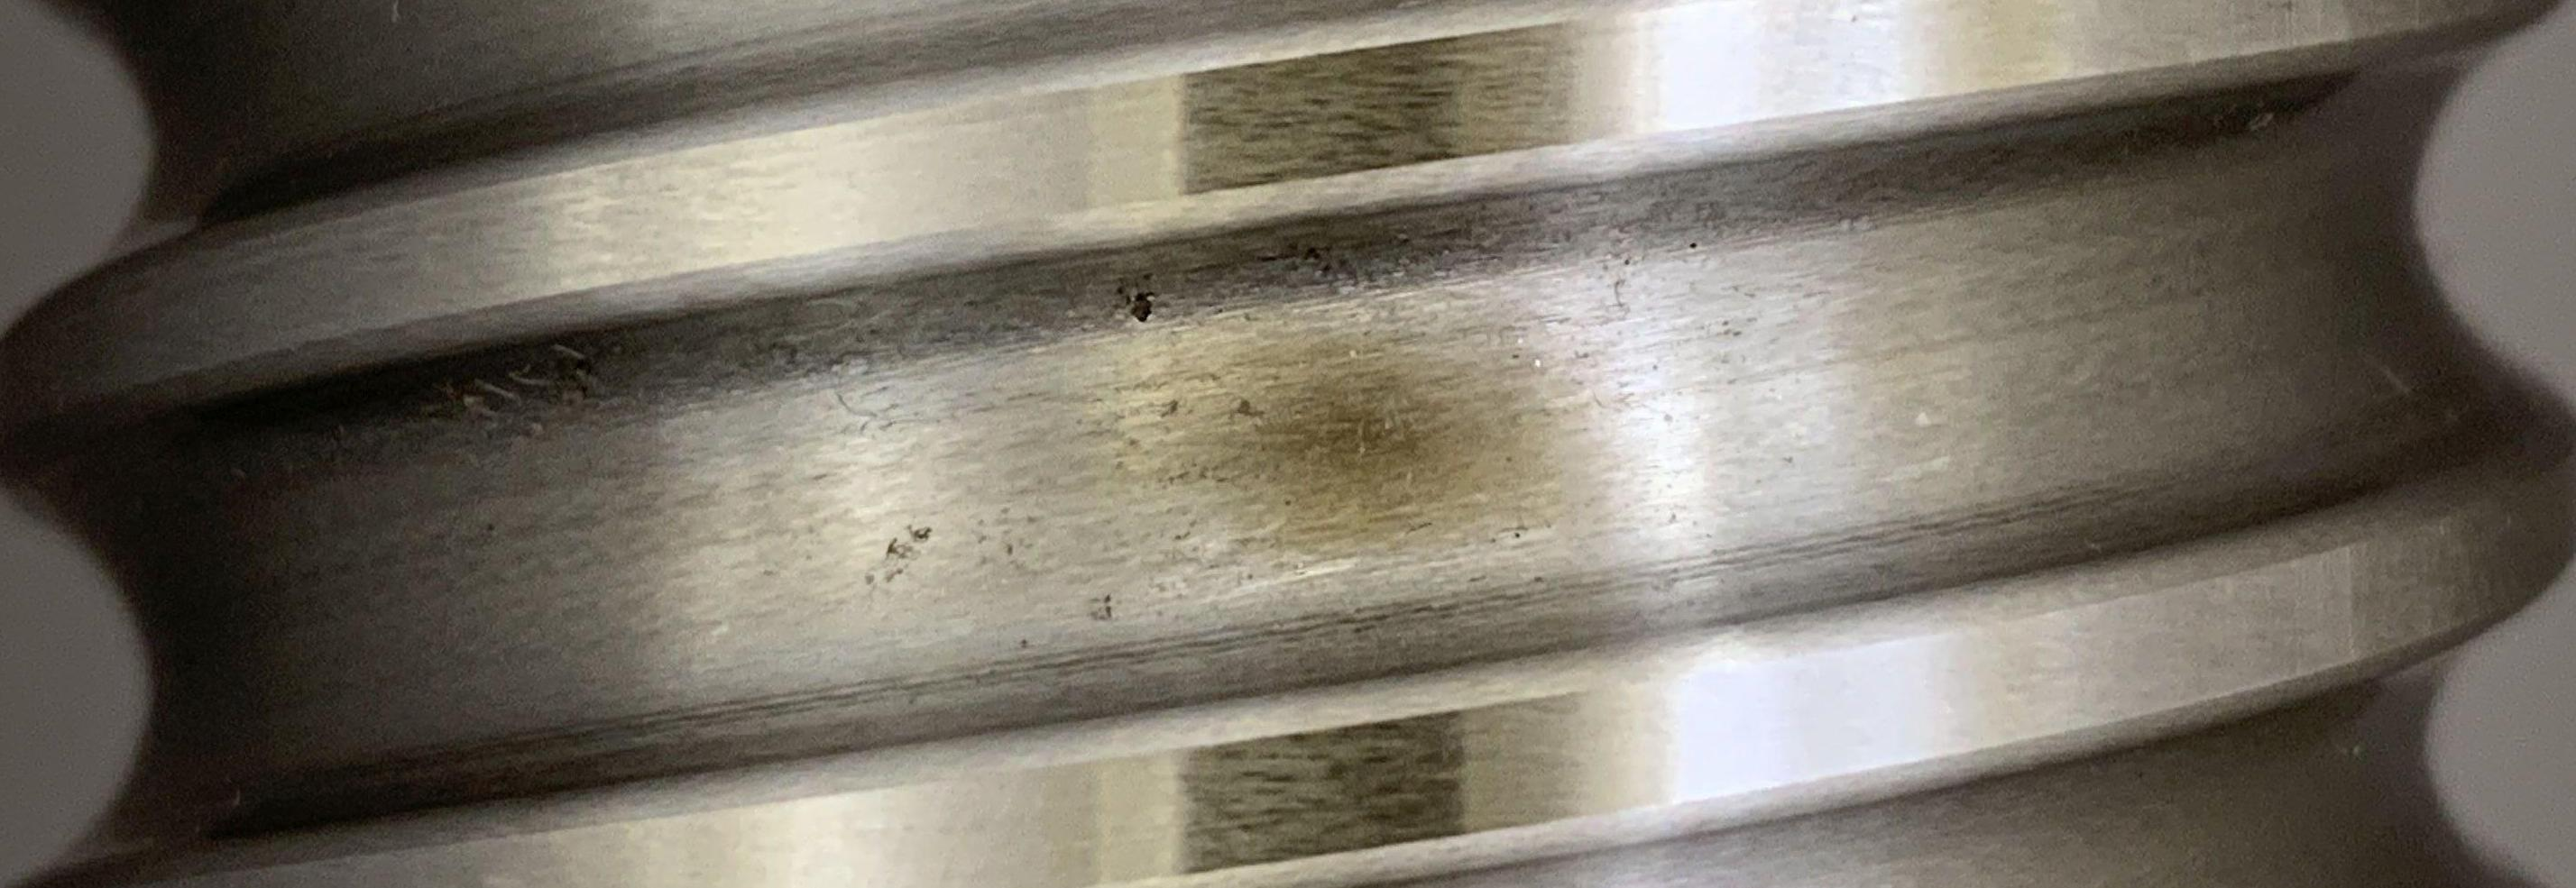pitting: (1117, 287, 1155, 322)
